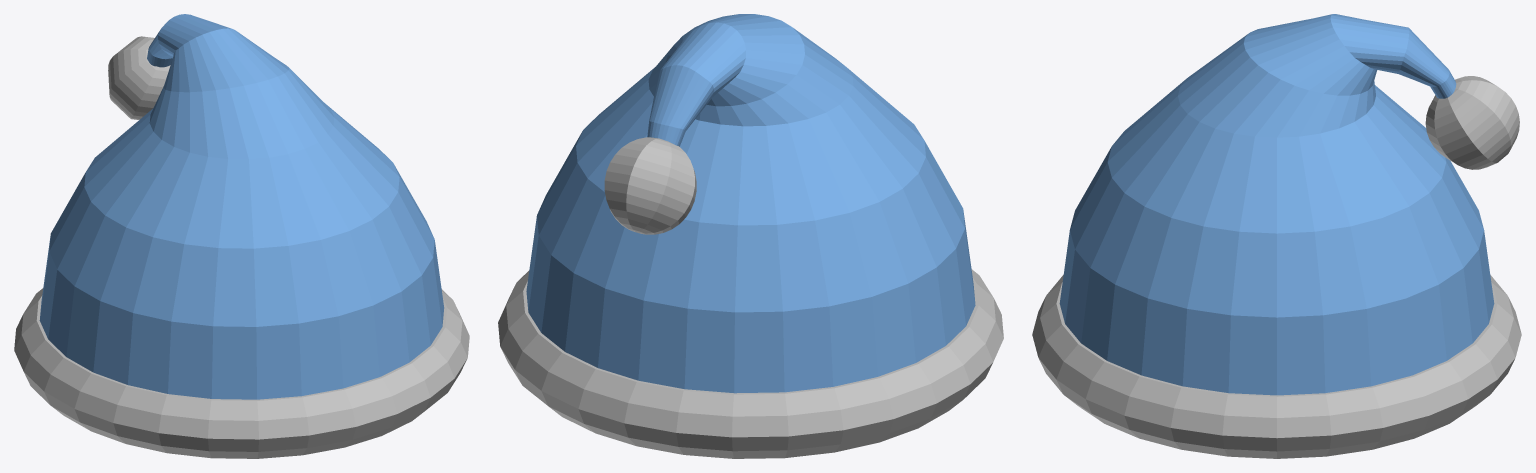
File: nightcap old.fbx
3 renders of one model, left to right at view 1: azimuth 30°, elevation 25°; view 2: azimuth 150°, elevation 25°; view 3: azimuth 270°, elevation 25°, orthographic. The views are drawn at different scales.
Parts seen in each view (by area): view 1: Circle, Circle.001, Sphere; view 2: Circle, Circle.001, Sphere; view 3: Circle, Circle.001, Sphere.
Boxes of the visible parts, bbox=[...] form: Circle: bbox=[39, 14, 444, 399]; Circle.001: bbox=[14, 288, 469, 458]; Sphere: bbox=[108, 36, 170, 119]; Circle: bbox=[526, 14, 975, 393]; Circle.001: bbox=[498, 269, 1003, 458]; Sphere: bbox=[604, 137, 696, 234]; Circle: bbox=[1059, 14, 1494, 395]; Circle.001: bbox=[1032, 275, 1521, 458]; Sphere: bbox=[1425, 76, 1519, 169].
Size of the model in its own units: 222 by 174 by 222.
